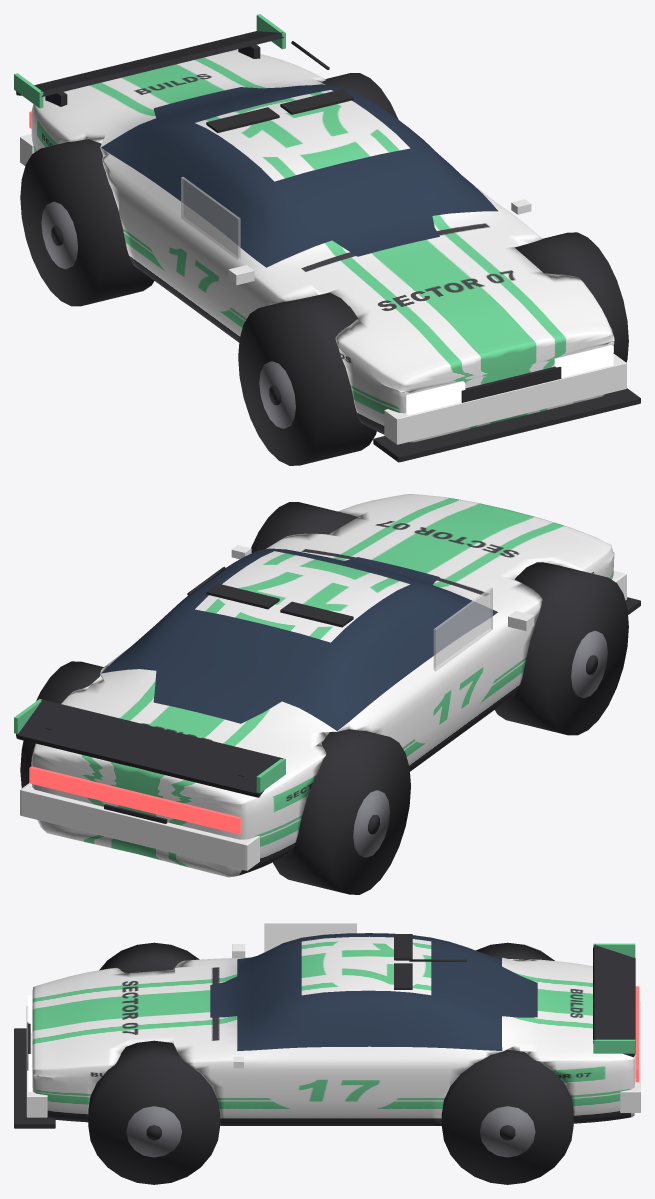
The model's file is car_9.glb.
The picture shows the model from 3 angles, top to bottom: view 1: azimuth 30°, elevation 25°; view 2: azimuth 150°, elevation 25°; view 3: azimuth 270°, elevation 25°; orthographic projection. The views are drawn at different scales.
Parts seen in each view (by area): view 1: body, cutter, cutter.002, bumperF, cutter.001, splitter, spoiler, net, dish.002, dish, grille, headlight (+4 smaller); view 2: body, cutter, cutter.002, spoiler, bumperR, tail, net, cutter.001, cutter.003, dish, dish.002, flap.001 (+2 smaller); view 3: body, cutter.001, cutter.003, spoiler, dish.003, dish.001, cutter, splitter, net, cutter.002, bumperF, bumperR (+4 smaller).
Part boxes in pixels (x1,y1,x2,y2): body: (31,50,614,442); cutter: (238,292,376,465); cutter.002: (20,139,154,306); bumperF: (384,354,626,444); cutter.001: (515,232,628,362); splitter: (373,388,640,462); spoiler: (16,31,283,96); net: (181,177,240,260); dish.002: (41,201,77,269); dish: (259,361,295,428); grille: (461,366,561,402); headlight: (406,381,465,415); body: (31,494,614,877); cutter: (495,562,628,735); cutter.002: (273,729,410,894); spoiler: (16,699,282,797); bumperR: (20,783,259,870); tail: (29,766,241,834); net: (433,587,492,671); cutter.001: (251,502,357,552); cutter.003: (20,661,103,788); dish: (571,630,607,698); dish.002: (353,790,389,857); flap.001: (206,583,279,609); body: (32,933,635,1125); cutter.001: (88,1040,220,1184); cutter.003: (441,1049,573,1184); spoiler: (593,944,635,1057); dish.003: (480,1106,535,1157); dish.001: (126,1106,181,1157); cutter: (99,942,199,973); splitter: (14,1028,55,1128); net: (264,923,356,952); cutter.002: (476,942,554,960); bumperF: (26,1006,47,1117); bumperR: (620,1002,640,1112).
Bounding box in the file's own units: 2.58 × 1.76 × 5.41.
Materials: 11 (1 with a texture image).
